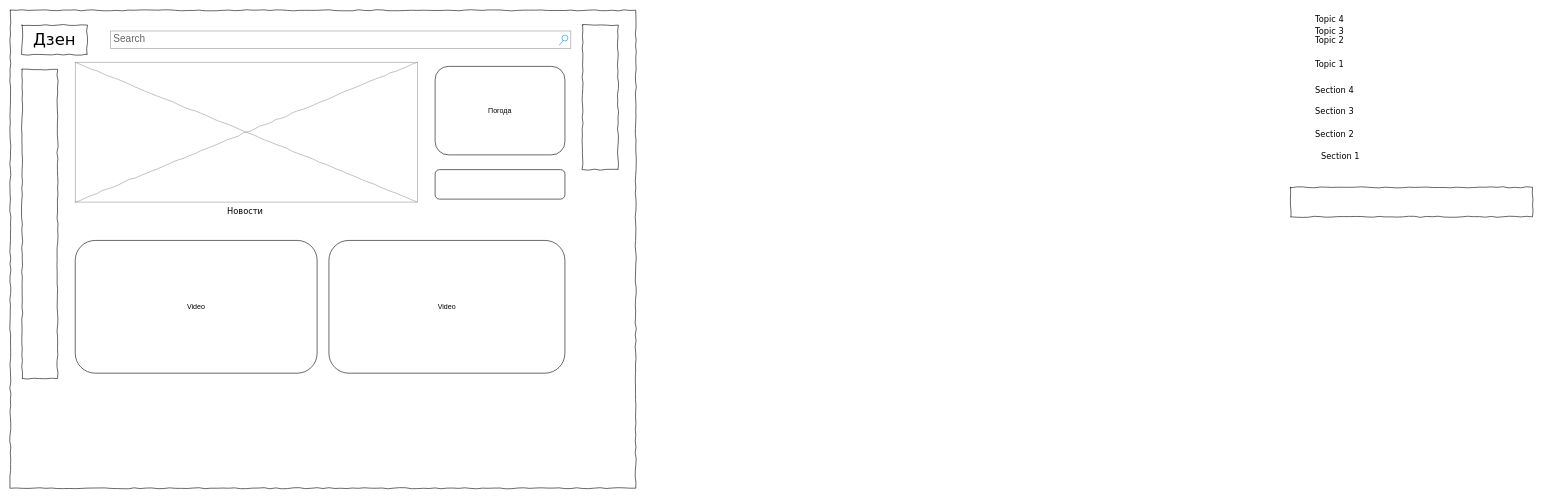
Some shapes in this 1543 by 499 pixel diagram are drawn without their labels. The shapes that lost their labels are listed below. From the top down, each one's box as (x1, y1, x2, y2) in pixels, then its label:
(582, 24, 618, 170): Right side bar
(435, 169, 565, 199): Курс валют
(22, 69, 58, 378): Left side bar
